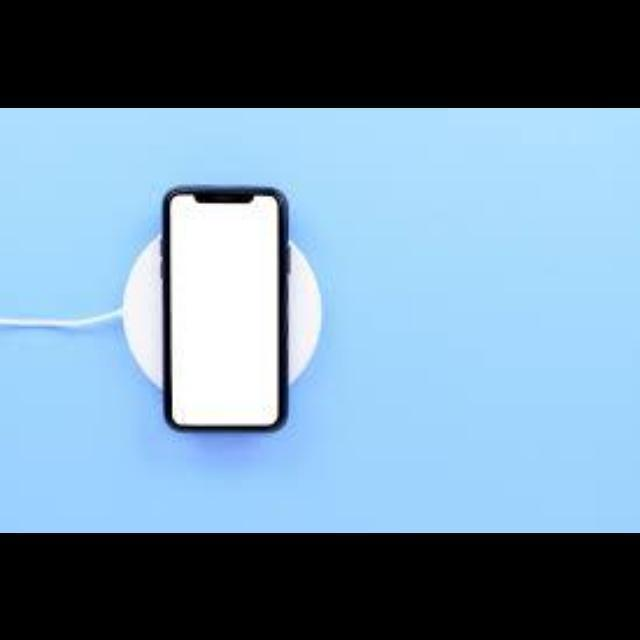phone: (165, 186, 287, 434)
